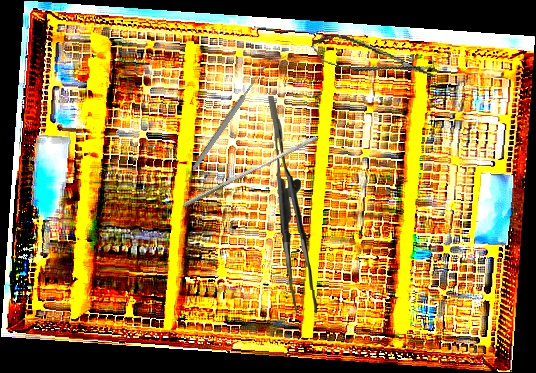Micro Scissor: (308, 28, 437, 91)
Pusher: (181, 130, 320, 213)
Surgical Spoon: (190, 64, 269, 171)
Tissue Forceps: (268, 95, 317, 314)
